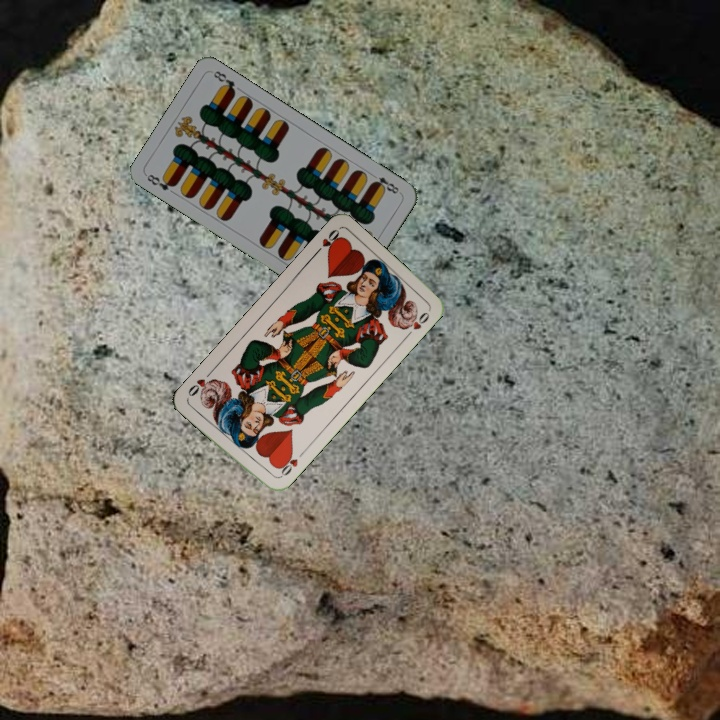E8: (367, 169, 403, 197), (143, 170, 179, 193)
HO: (310, 225, 344, 259), (274, 448, 307, 481)
